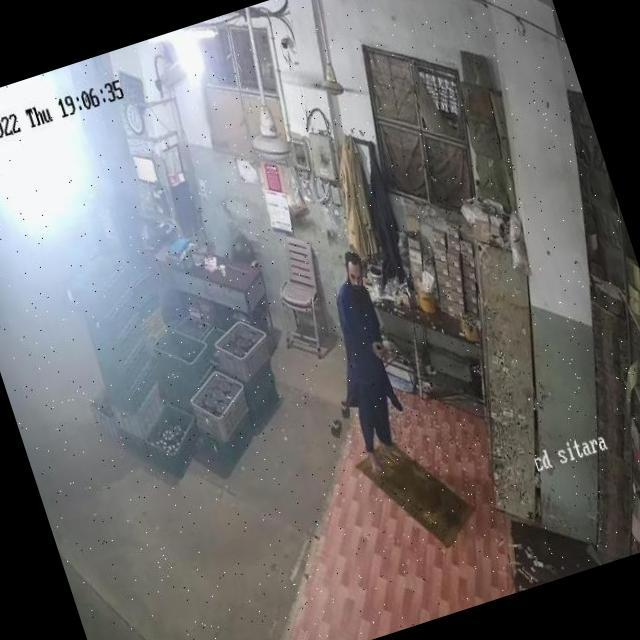person: (305, 248, 423, 477)
